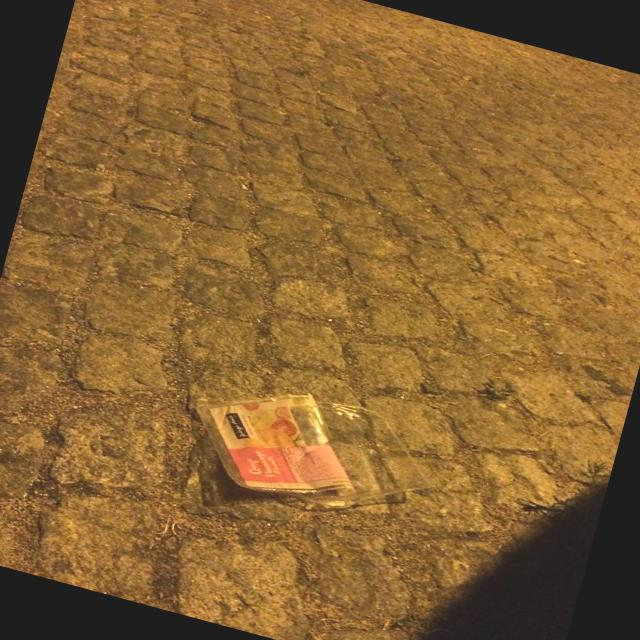Trash: (185, 364, 452, 540)
